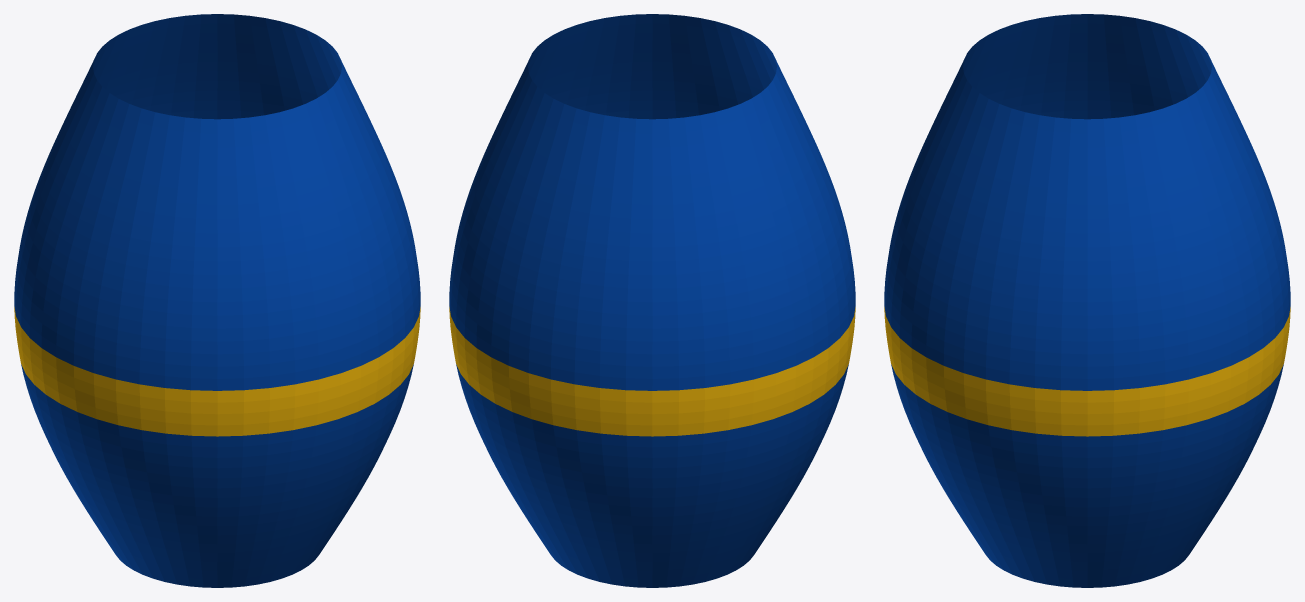
Rendered from vase.obj.
3 renders of one model, left to right at view 1: azimuth 30°, elevation 25°; view 2: azimuth 150°, elevation 25°; view 3: azimuth 270°, elevation 25°, orthographic.
Size of the model in its own units: 30.9 by 40 by 30.9.
